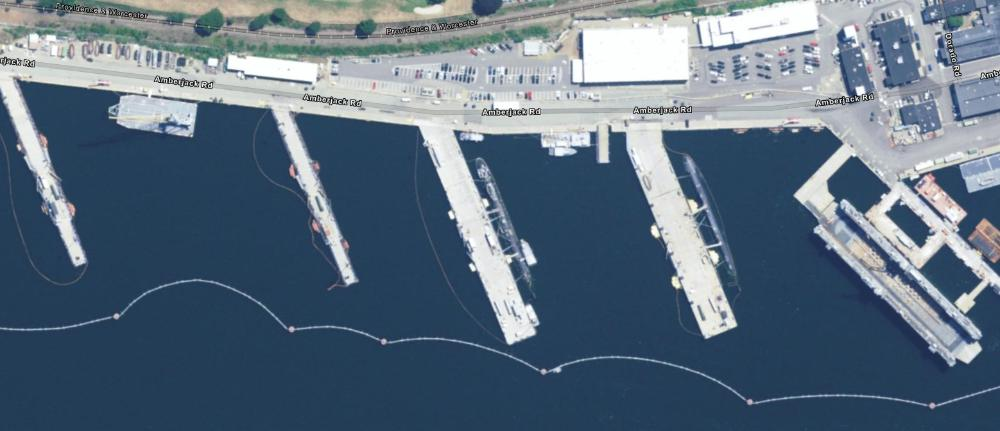submarine: (468, 152, 561, 324), (674, 149, 757, 304)
